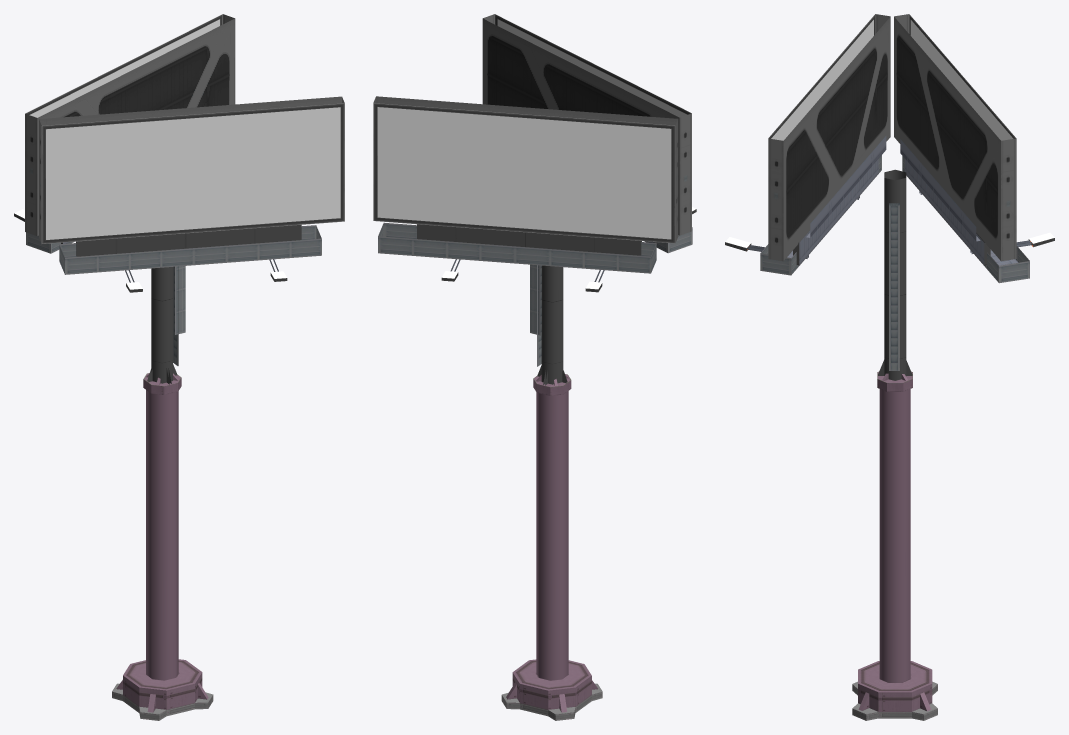
The model's file is pro_billboard_tripple.fbx.
3 views of the same model, side by side, from view 1: azimuth 30°, elevation 25°; view 2: azimuth 150°, elevation 25°; view 3: azimuth 270°, elevation 25° (orthographic). The views are drawn at different scales.
Visible parts, largest first — view 1: pro_billboard_tripple, support_pylon_4, support_ground_4, support_road_2; view 2: pro_billboard_tripple, support_pylon_4, support_ground_4, support_road_2; view 3: pro_billboard_tripple, support_pylon_4, support_ground_4, support_road_2.
Boxes of the visible parts, x1,y1,x2,y2 form: pro_billboard_tripple: (14,14,344,384); support_pylon_4: (146,390,178,680); support_ground_4: (112,659,213,720); support_road_2: (143,373,181,394); pro_billboard_tripple: (373,14,696,385); support_pylon_4: (536,391,568,680); support_ground_4: (501,659,602,720); support_road_2: (533,374,571,395); pro_billboard_tripple: (725,14,1054,380); support_pylon_4: (879,389,910,682); support_ground_4: (852,661,937,720); support_road_2: (877,371,912,391).
Bounding box in the file's own units: 1729 × 3966 × 1899.
